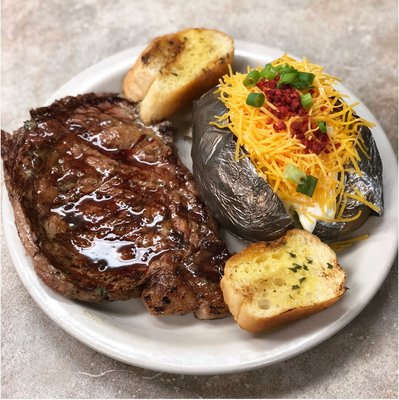soup: (193, 53, 384, 243), (120, 27, 234, 124)
